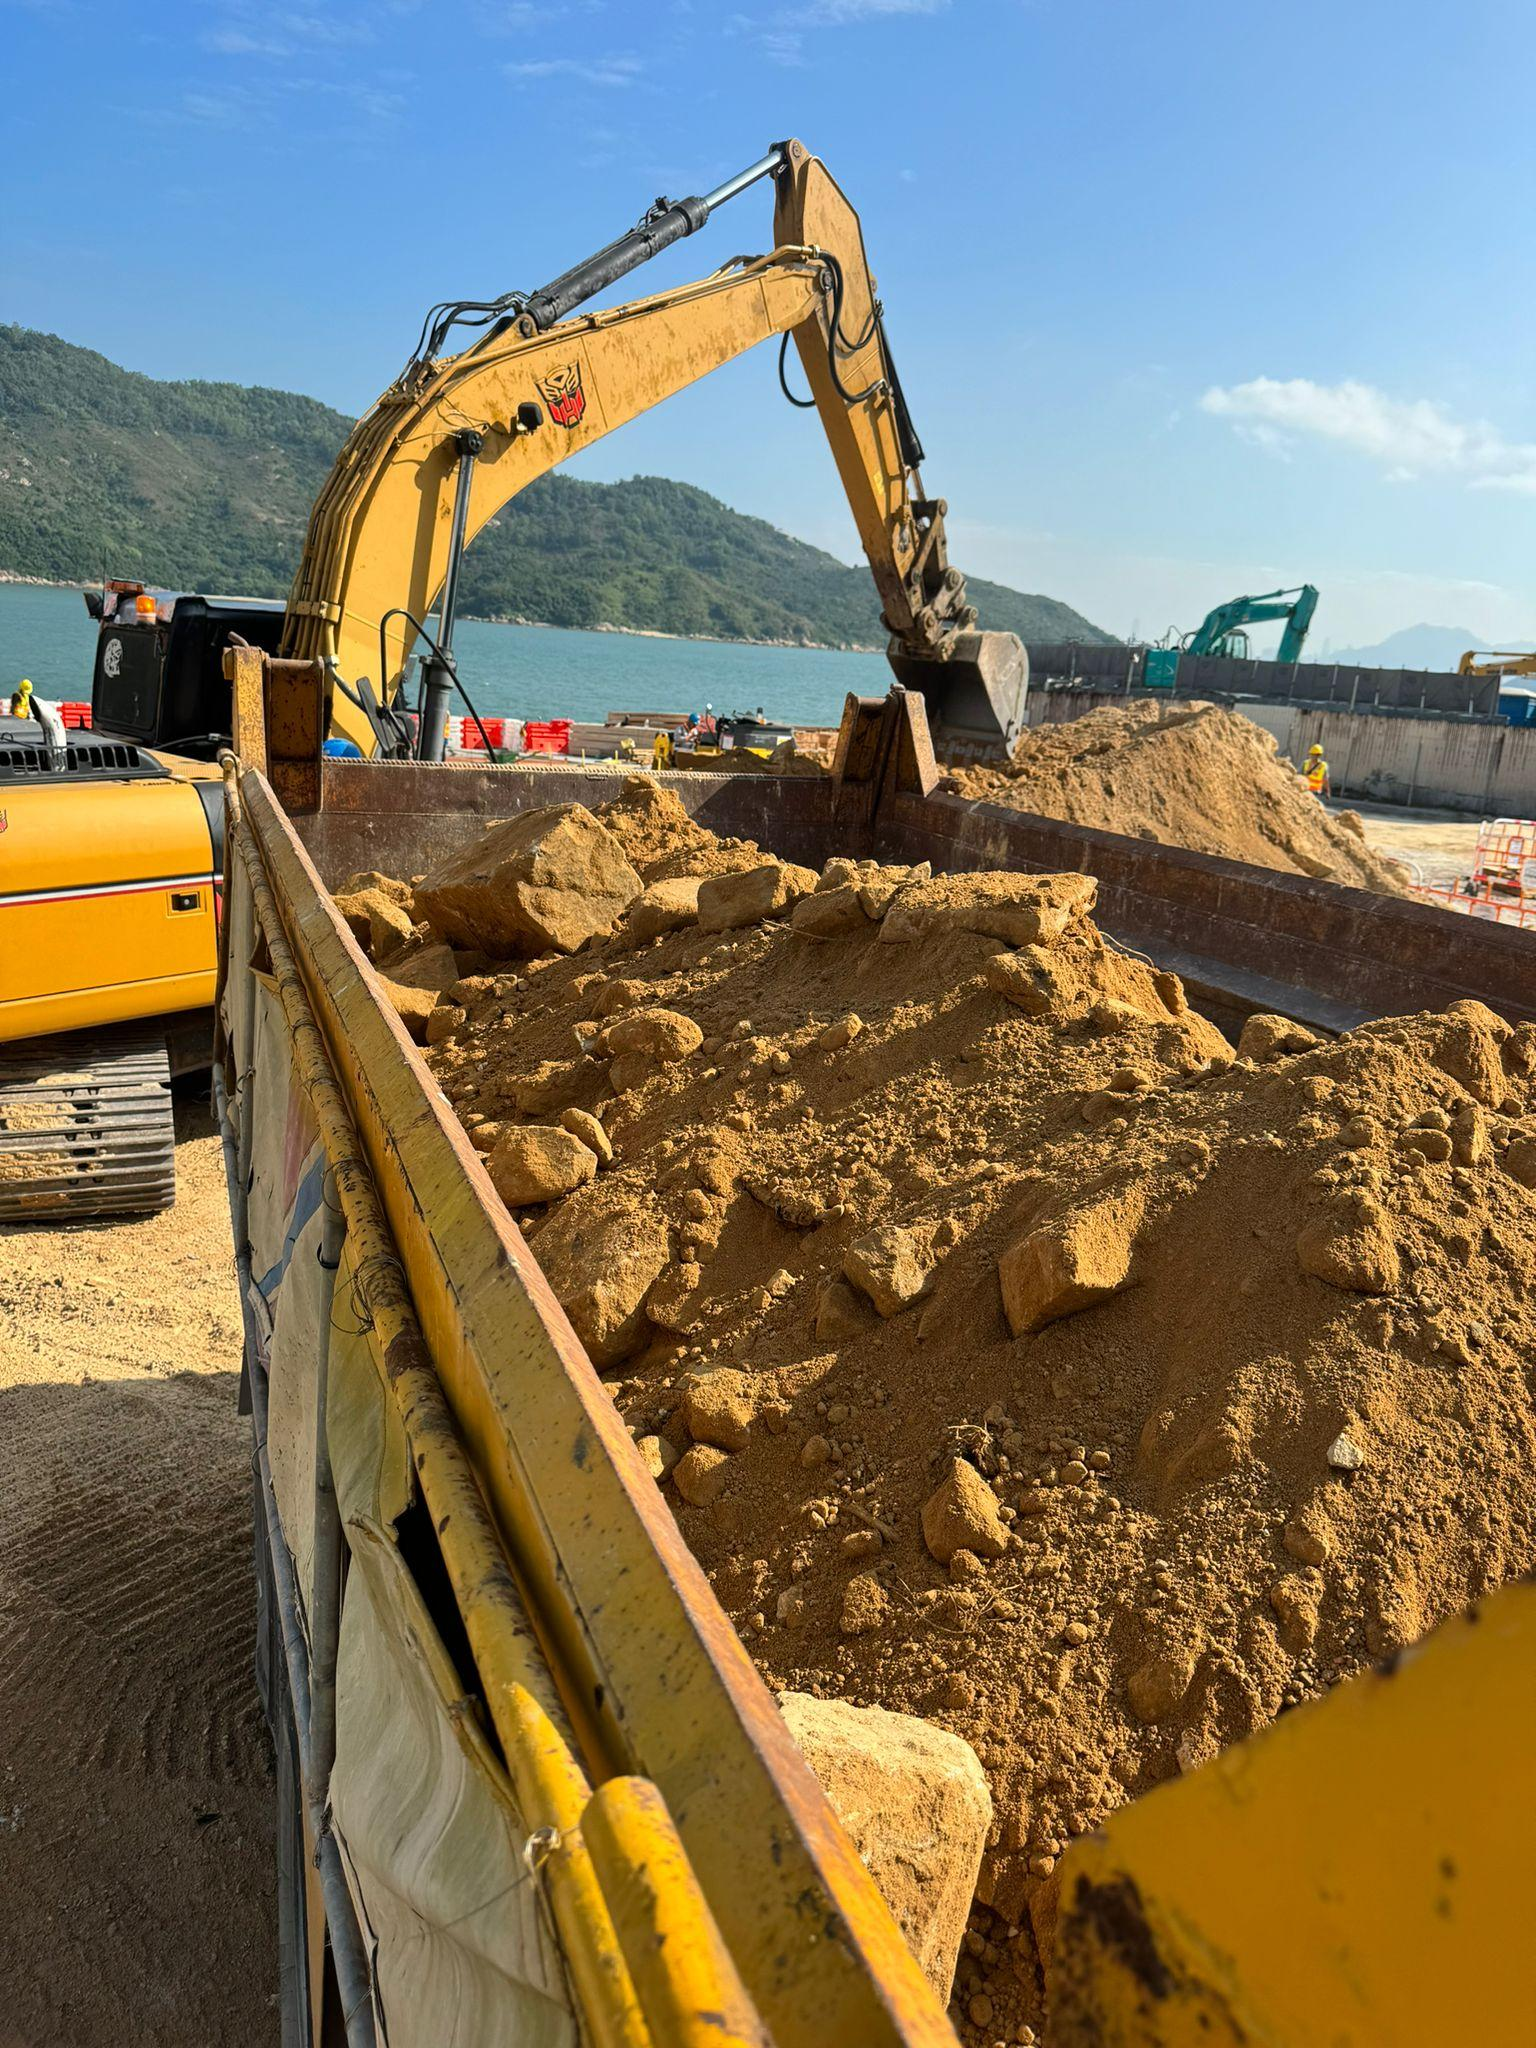dry: (366, 790, 1536, 1793)
